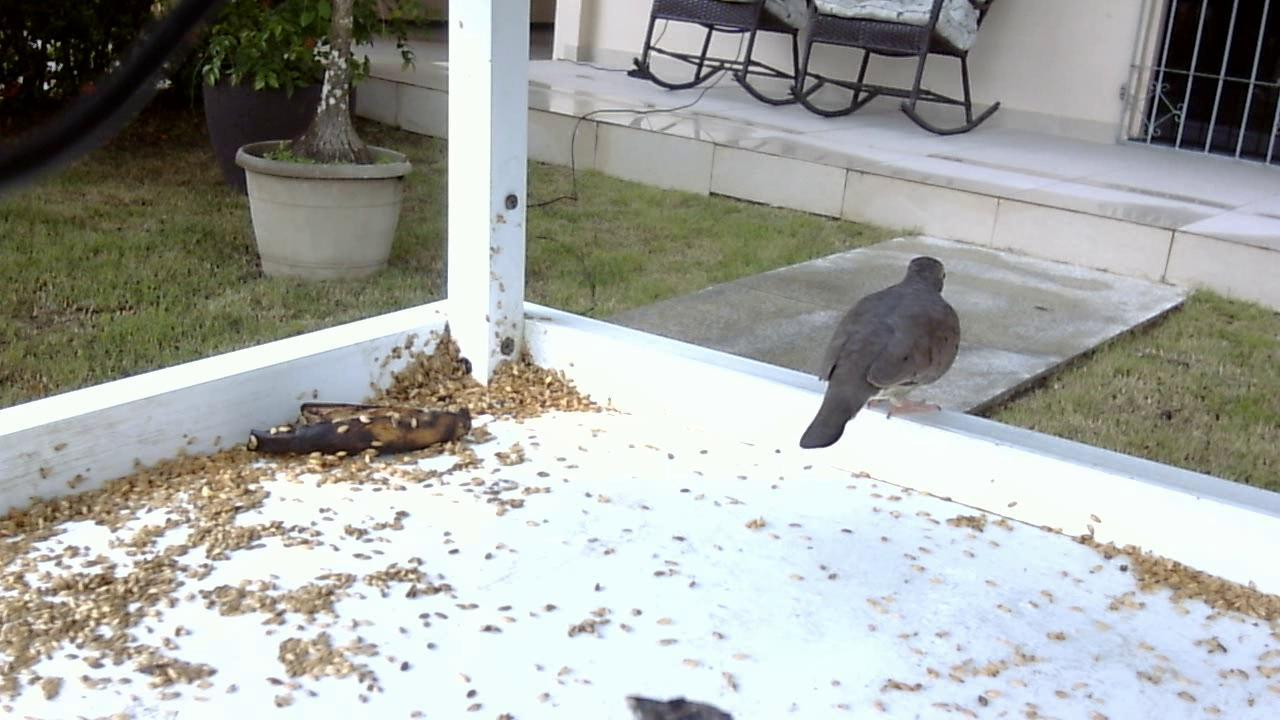rolinha: (791, 252, 966, 460)
